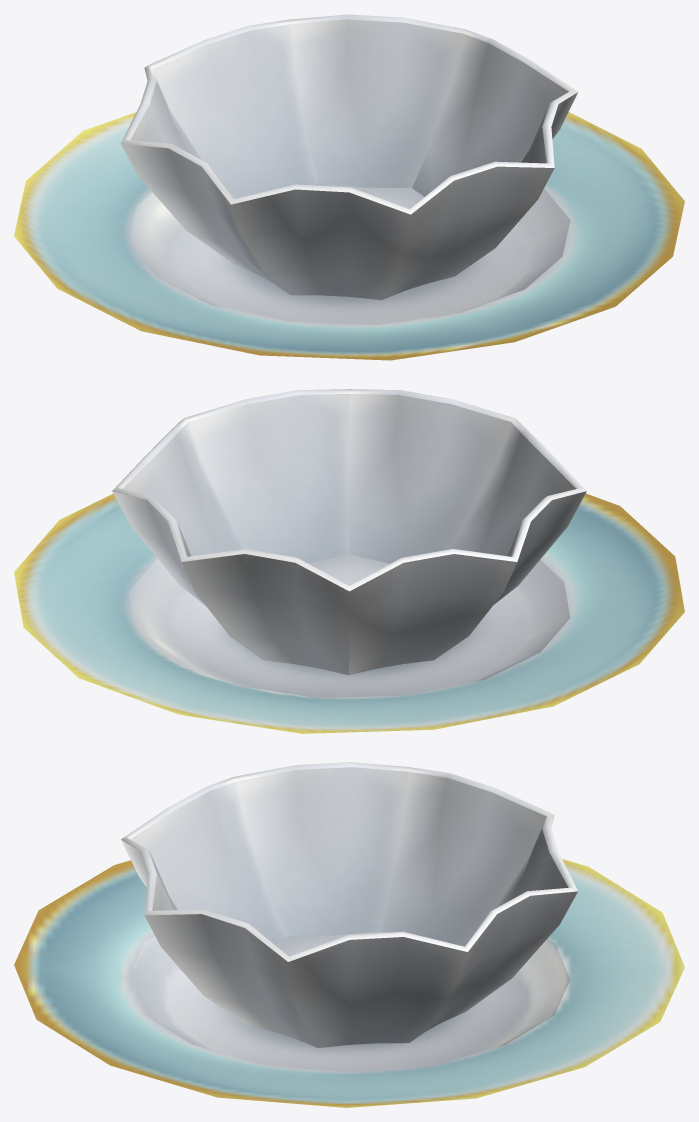
Rendered from JiaMianWuHuiXianChang_01_panzi_01_UV2.FBX.
3 renders of one model, top to bottom at view 1: azimuth 30°, elevation 25°; view 2: azimuth 150°, elevation 25°; view 3: azimuth 270°, elevation 25°, orthographic.
Parts seen in each view (by area): view 1: JiaMianWuHuiXianChang_panzi_01; view 2: JiaMianWuHuiXianChang_panzi_01; view 3: JiaMianWuHuiXianChang_panzi_01.
Boxes of the visible parts, x1,y1,x2,y2 form: JiaMianWuHuiXianChang_panzi_01: [14, 14, 684, 360]; JiaMianWuHuiXianChang_panzi_01: [14, 389, 684, 733]; JiaMianWuHuiXianChang_panzi_01: [14, 762, 684, 1107].
Size of the model in its own units: 151 by 44.64 by 151.
